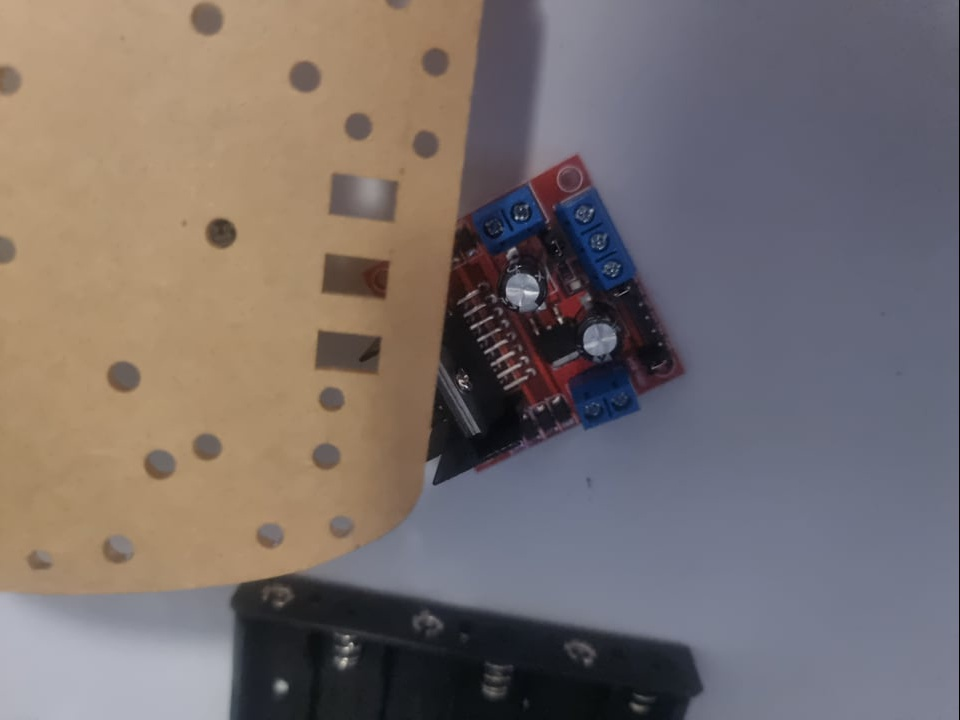BATTERY BOX: (210, 577, 707, 720)
MOTOR: (377, 154, 686, 492)
